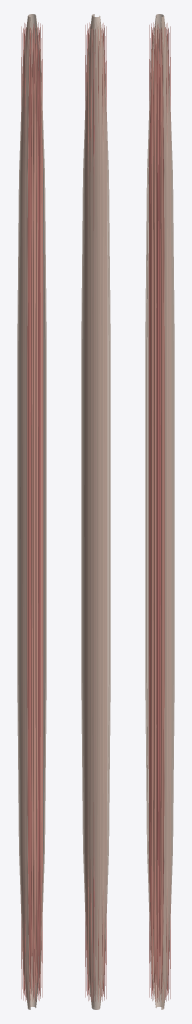
Rendered from fascicle.glb.
3 views of the same model, side by side, from view 1: azimuth 30°, elevation 25°; view 2: azimuth 150°, elevation 25°; view 3: azimuth 330°, elevation 25° (orthographic).
Parts seen in each view (by area): view 1: Perimysium, Fiber cell 36, Fiber cell 28, Fiber cell 25, Fiber cell 35, Fiber cell 20, Fiber cell 24, Fiber cell 34, Fiber cell 37, Fiber cell 21, Fiber cell 09, Fiber cell 12 (+13 smaller); view 2: Perimysium, Fiber cell 31, Fiber cell 26, Fiber cell 32, Fiber cell 30, Fiber cell 22, Fiber cell 37, Fiber cell 23, Fiber cell 15, Fiber cell 29, Fiber cell 14, Fiber cell 33 (+3 smaller); view 3: Perimysium, Fiber cell 35, Fiber cell 28, Fiber cell 24, Fiber cell 36, Fiber cell 19, Fiber cell 25, Fiber cell 37, Fiber cell 34, Fiber cell 18, Fiber cell 08, Fiber cell 12 (+13 smaller).
Boxes of the visible parts, x1,y1,x2,y2 form: Perimysium: (17, 14, 46, 1009); Fiber cell 36: (32, 30, 35, 1002); Fiber cell 28: (35, 29, 38, 1001); Fiber cell 25: (28, 29, 30, 1001); Fiber cell 35: (38, 28, 40, 1000); Fiber cell 20: (31, 29, 33, 1001); Fiber cell 24: (40, 27, 42, 998); Fiber cell 34: (41, 25, 43, 997); Fiber cell 37: (24, 29, 25, 1001); Fiber cell 21: (27, 28, 28, 1000); Fiber cell 09: (30, 27, 31, 999); Fiber cell 12: (34, 28, 35, 1000); Perimysium: (81, 14, 110, 1009); Fiber cell 31: (93, 30, 94, 1002); Fiber cell 26: (90, 29, 91, 1001); Fiber cell 32: (87, 28, 88, 1000); Fiber cell 30: (102, 29, 103, 1001); Fiber cell 22: (97, 29, 98, 1001); Fiber cell 37: (105, 26, 106, 998); Fiber cell 23: (86, 31, 87, 994); Fiber cell 15: (95, 29, 96, 1001); Fiber cell 29: (104, 28, 105, 1000); Fiber cell 14: (99, 28, 100, 1000); Fiber cell 33: (85, 25, 86, 997); Perimysium: (145, 14, 174, 1009); Fiber cell 35: (156, 30, 159, 1002); Fiber cell 28: (153, 29, 156, 1001); Fiber cell 24: (161, 29, 163, 1001); Fiber cell 36: (151, 28, 153, 1000); Fiber cell 19: (158, 29, 160, 1001); Fiber cell 25: (149, 27, 151, 998); Fiber cell 37: (148, 25, 150, 997); Fiber cell 34: (166, 29, 167, 1001); Fiber cell 18: (163, 28, 164, 1000); Fiber cell 08: (160, 27, 161, 999); Fiber cell 12: (156, 28, 157, 1000).
Bounding box in the file's own units: 1397 × 50000 × 1102.
